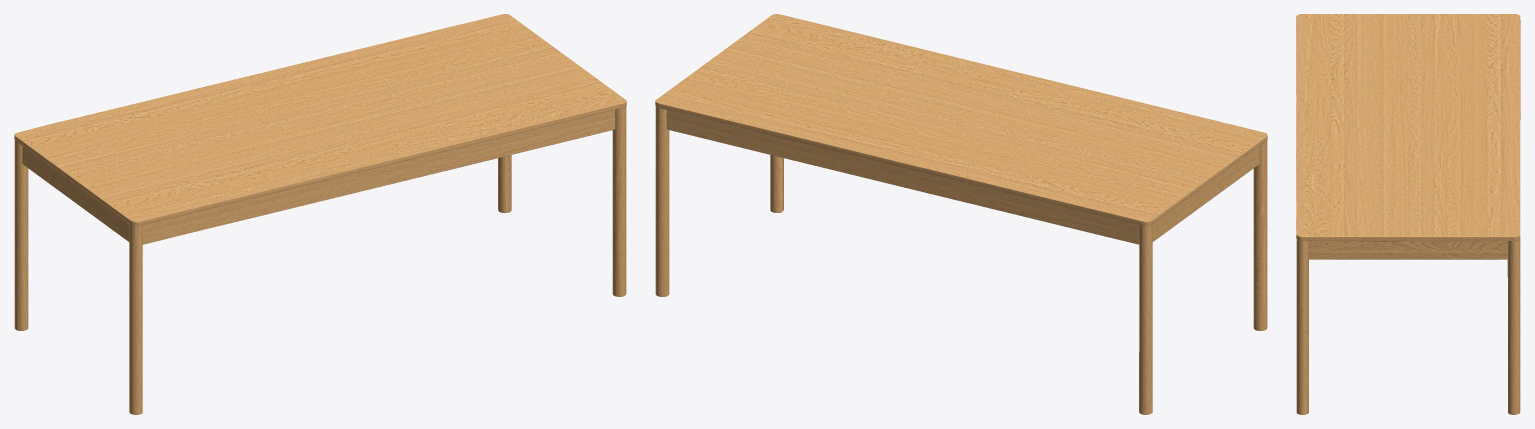
The picture shows the model from 3 angles, left to right: view 1: azimuth 30°, elevation 25°; view 2: azimuth 150°, elevation 25°; view 3: azimuth 270°, elevation 25°; orthographic projection. The views are drawn at different scales.
Visible parts, largest first — view 1: 80593880-TONSTAD001; view 2: 80593880-TONSTAD001; view 3: 80593880-TONSTAD001.
Boxes of the visible parts, box(x1,y1,x2,y2) form: 80593880-TONSTAD001: box(14, 14, 626, 414); 80593880-TONSTAD001: box(655, 14, 1267, 414); 80593880-TONSTAD001: box(1296, 14, 1520, 414).
Size of the model in its own units: 2 by 0.7496 by 0.8509.
1 material, 1 textured.
